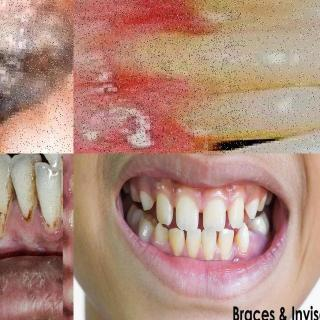cavities: (0, 0, 74, 154)
stains: (15, 155, 40, 233), (36, 174, 62, 238), (0, 162, 12, 245), (68, 196, 74, 230), (65, 295, 73, 311)
